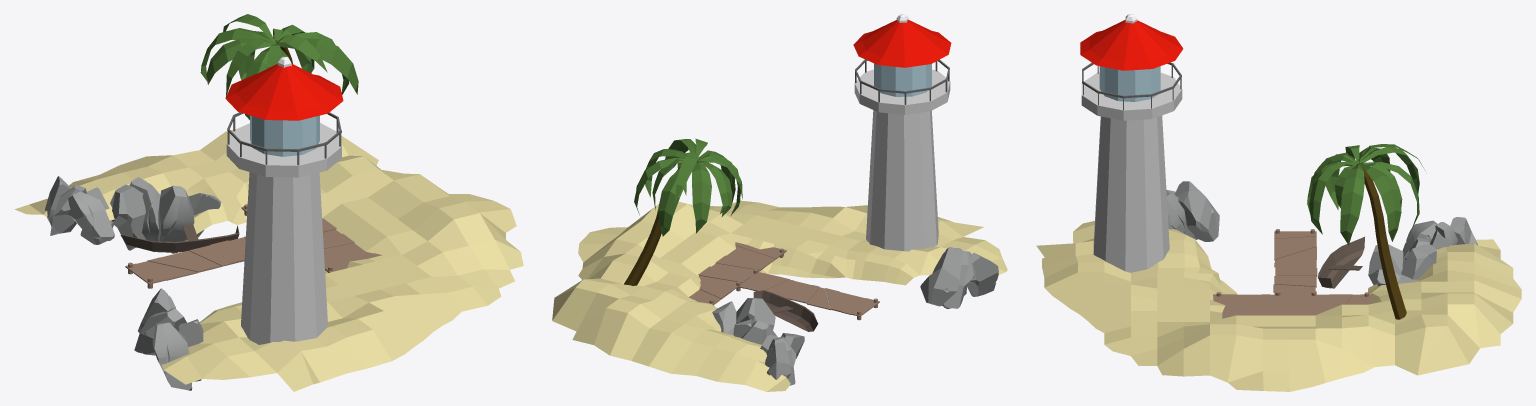
File: island_middle_green_0.glb
3 renders of one model, left to right at view 1: azimuth 30°, elevation 25°; view 2: azimuth 150°, elevation 25°; view 3: azimuth 270°, elevation 25°, orthographic. The views are drawn at different scales.
Visible parts, largest first — view 1: 平面.005, 柱体.002, 柱体.004, RB1_RB1_Cube.017, 柱体.005, RB1_RB1_Cube.018, RB1_RB1_Cube.019, 柱体.003, 平面.008, 平面.001_平面.002, 平面.007_平面.002, 平面.005_平面.002 (+3 smaller); view 2: 平面.005, 柱体.002, 柱体.005, 柱体.004, RB1_RB1_Cube.018, RB1_RB1_Cube.017, 柱体.003, RB1_RB1_Cube.019, 平面.008, 平面.005_平面.002, 平面.006_平面.002, 柱体.006 (+5 smaller); view 3: 平面.005, 柱体.002, 柱体.005, 柱体.004, RB1_RB1_Cube.018, RB1_RB1_Cube.017, 柱体.003, 柱体.006, RB1_RB1_Cube.019, 平面.002_平面.002, 平面.008, 平面.006 (+4 smaller).
Boxes of the visible parts, x1,y1,x2,y2 form: 平面.005: (14,129,523,391); 柱体.002: (226,123,341,344); 柱体.004: (225,64,343,120); RB1_RB1_Cube.017: (110,177,220,253); 柱体.005: (125,204,382,288); RB1_RB1_Cube.018: (134,288,203,390); RB1_RB1_Cube.019: (45,176,114,244); 柱体.003: (250,115,319,156); 平面.008: (120,224,239,252); 平面.001_平面.002: (277,38,358,94); 平面.007_平面.002: (206,38,274,84); 平面.005_平面.002: (200,28,273,81); 平面.005: (552,200,1007,391); 柱体.002: (854,69,950,251); 柱体.005: (689,242,879,320); 柱体.004: (853,20,951,67); RB1_RB1_Cube.018: (920,247,998,308); RB1_RB1_Cube.017: (712,298,777,344); 柱体.003: (874,63,931,96); RB1_RB1_Cube.019: (760,333,804,385); 平面.008: (753,290,818,331); 平面.005_平面.002: (692,161,711,233); 平面.006_平面.002: (657,168,687,236); 柱体.006: (624,167,680,285); 平面.005: (1036,221,1521,391); 柱体.002: (1081,72,1182,272); 柱体.005: (1213,229,1374,318); 柱体.004: (1080,19,1183,70); RB1_RB1_Cube.018: (1166,181,1219,241); RB1_RB1_Cube.017: (1368,238,1436,286); 柱体.003: (1099,66,1160,101); 柱体.006: (1357,162,1406,319); RB1_RB1_Cube.019: (1402,217,1477,260); 平面.002_平面.002: (1340,163,1364,245); 平面.008: (1318,236,1364,288); 平面.006: (1359,162,1401,241).
Bounding box in the file's own units: 20.42 × 14.71 × 22.98.
